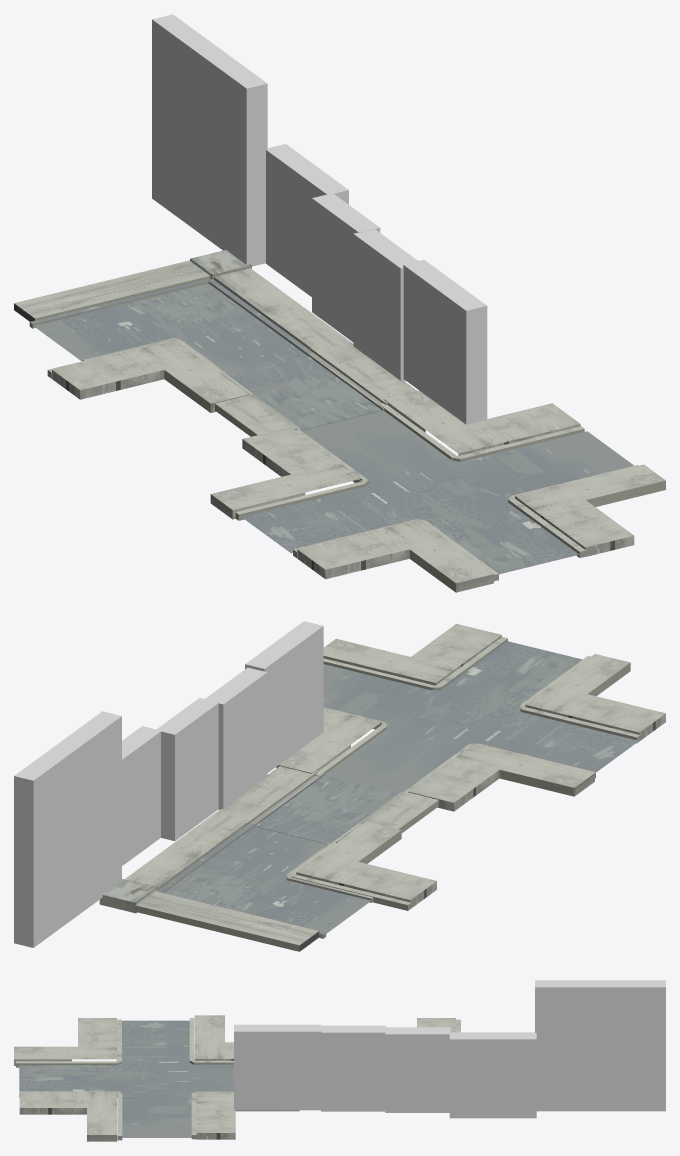
File: CallesKimera.fbx
3 renders of one model, top to bottom at view 1: azimuth 30°, elevation 25°; view 2: azimuth 150°, elevation 25°; view 3: azimuth 270°, elevation 25°, orthographic. The views are drawn at different scales.
Visible parts, largest first — view 1: CalleenCruz, Cube.011, Carretera.001, Cube.005, AceraCalleEnCruz, aceradecalleencruz, AceraCalleEnCruz.001, AceraDeCalleEnCruz, Cube.026, Cube, AceraSeparada, Carretera (+8 smaller); view 2: CalleenCruz, Cube.011, Carretera.001, Cube.005, Cube.027, AceraCalleEnCruz, aceradecalleencruz, AceraCalleEnCruz.001, Cube, Carretera, AceraSeparada, Cube.026 (+10 smaller); view 3: Cube.011, CalleenCruz, Cube.005, Cube.026, Cube, Cube.027, AceraCalleEnCruz, AceraSeparada, AceraDeCalleEnCruz, aceradecalleencruz, AceraCalleEnCruz.001, Acerasmall.
Part boxes in pixels (x1,y1,x2,y2): CalleenCruz: [242, 410, 634, 574]; Cube.011: [152, 14, 267, 266]; Carretera.001: [34, 283, 307, 375]; Cube.005: [403, 259, 487, 424]; AceraCalleEnCruz: [293, 519, 498, 592]; aceradecalleencruz: [210, 427, 368, 520]; AceraCalleEnCruz.001: [47, 339, 253, 412]; AceraDeCalleEnCruz: [379, 390, 584, 462]; Cube.026: [266, 144, 348, 296]; Cube: [353, 229, 417, 381]; AceraSeparada: [515, 464, 665, 556]; Carretera: [229, 356, 382, 430]; CalleenCruz: [323, 641, 639, 793]; Cube.011: [14, 711, 121, 947]; Carretera.001: [164, 826, 371, 933]; Cube.005: [245, 621, 323, 772]; Cube.027: [156, 698, 218, 841]; AceraCalleEnCruz: [520, 654, 665, 743]; aceradecalleencruz: [403, 743, 595, 811]; AceraCalleEnCruz.001: [291, 821, 436, 910]; Cube: [205, 667, 267, 809]; Carretera: [255, 775, 398, 844]; AceraSeparada: [323, 624, 501, 685]; Cube.026: [122, 726, 161, 865]; Cube.011: [535, 980, 665, 1111]; CalleenCruz: [19, 1020, 233, 1137]; Cube.005: [234, 1024, 321, 1110]; Cube.026: [449, 1032, 536, 1118]; Cube: [321, 1025, 386, 1111]; Cube.027: [385, 1027, 450, 1112]; AceraCalleEnCruz: [14, 1018, 121, 1067]; AceraSeparada: [19, 1091, 117, 1141]; AceraDeCalleEnCruz: [191, 1091, 299, 1139]; aceradecalleencruz: [189, 1015, 233, 1064]; AceraCalleEnCruz.001: [417, 1018, 460, 1032]; Acerasmall: [19, 1091, 122, 1140].
Bounding box in the file's own units: 97.71 × 225 × 49.28.
Materials: 5 (5 with a texture image).
